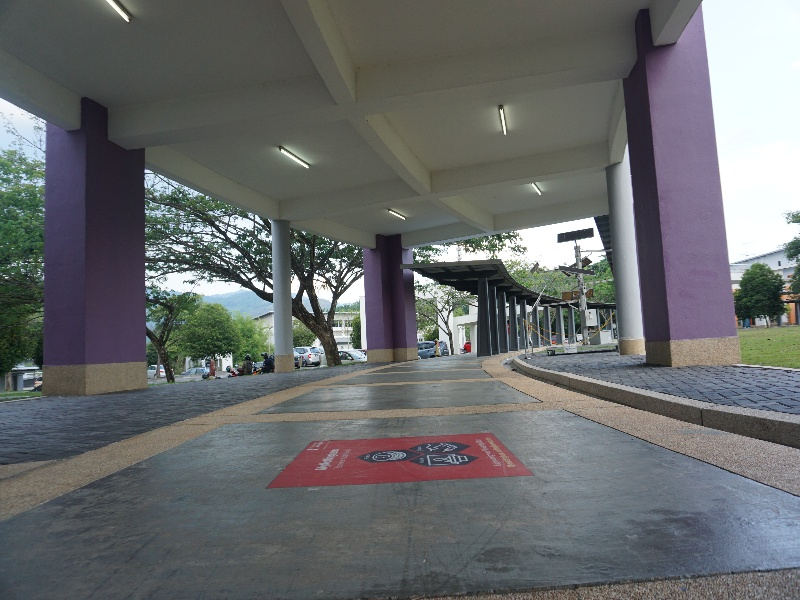Block D Pillar 4: (2, 6, 800, 480)
pillar: (603, 1, 750, 374), (22, 84, 162, 405), (354, 226, 435, 378), (256, 207, 299, 383)
